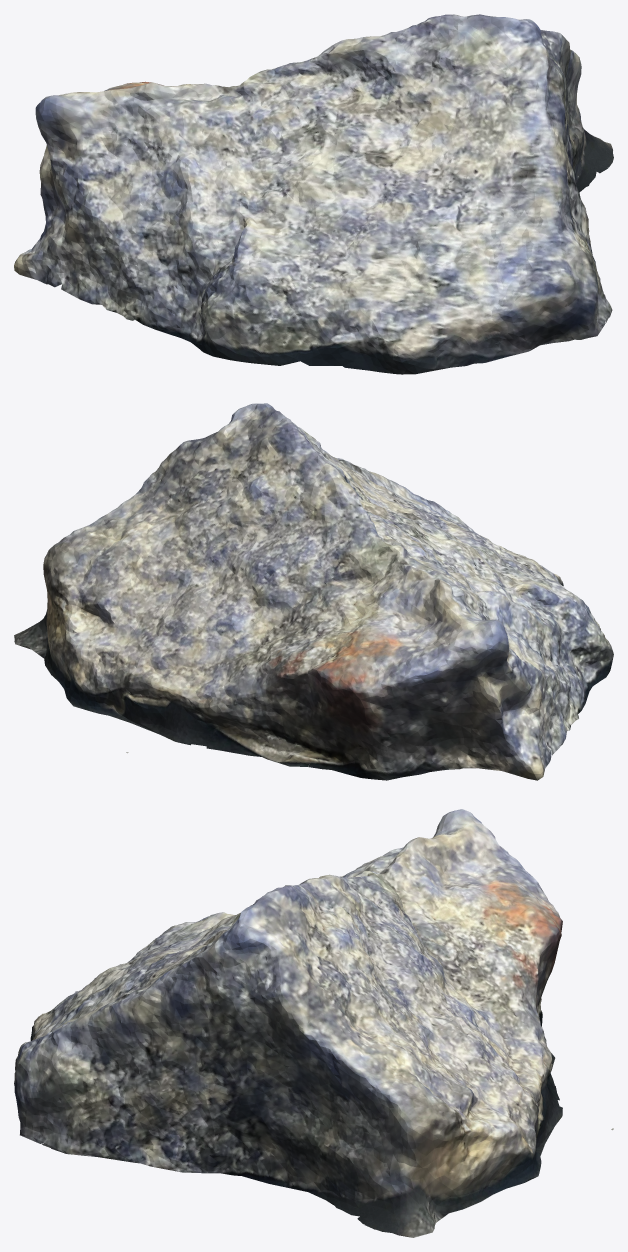
File: granitoazul.glb
3 renders of one model, top to bottom at view 1: azimuth 30°, elevation 25°; view 2: azimuth 150°, elevation 25°; view 3: azimuth 270°, elevation 25°, orthographic. The views are drawn at different scales.
Size of the model in its own units: 0.0747 by 0.0288 by 0.066.
1 material, 1 textured.
